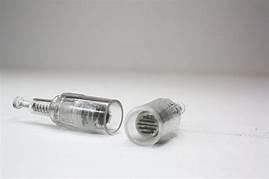Syringe: (8, 86, 124, 138), (122, 96, 190, 150)
